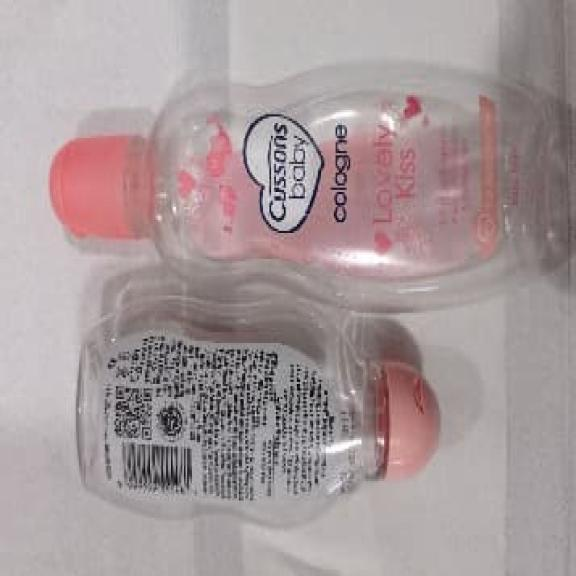Plastik: (53, 68, 565, 310)
